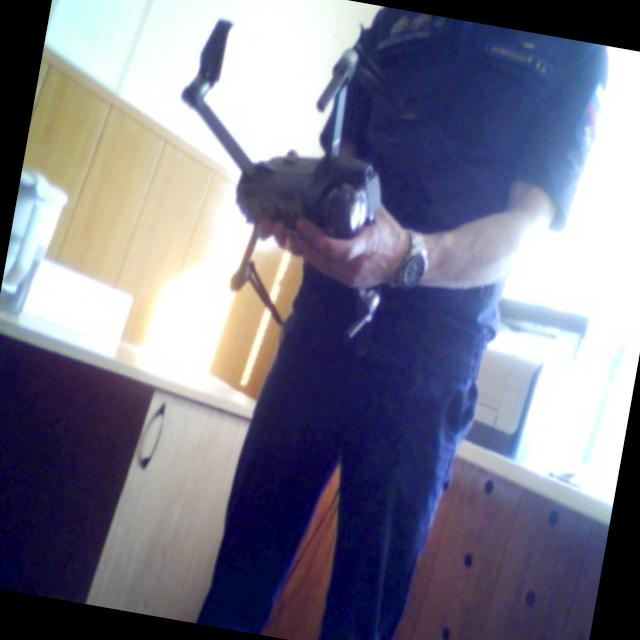drone: (141, 5, 465, 352)
